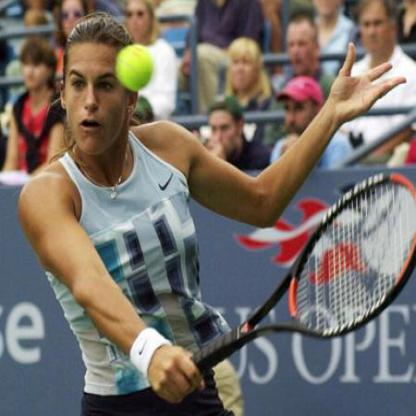face: (63, 17, 131, 157), (283, 79, 316, 144), (360, 1, 395, 56), (210, 98, 241, 159), (288, 15, 319, 75), (230, 40, 260, 94), (23, 41, 52, 92), (125, 1, 152, 43), (60, 1, 88, 41)
